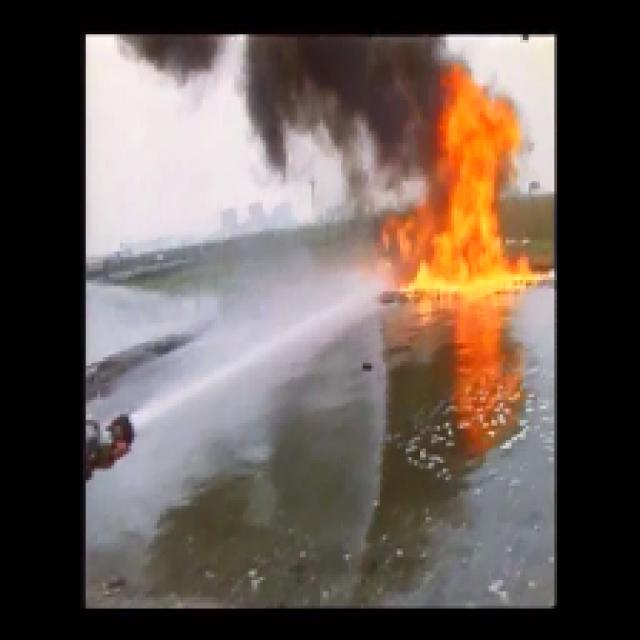fire: (433, 99, 523, 279)
smoke: (264, 35, 426, 126)
